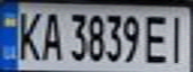3: (63, 8, 87, 62), (103, 10, 124, 64)
8: (84, 10, 106, 63)
9: (121, 11, 145, 64)
A: (36, 8, 66, 62)
E: (142, 11, 172, 65)
I: (163, 11, 193, 65)
K: (12, 8, 45, 62)
